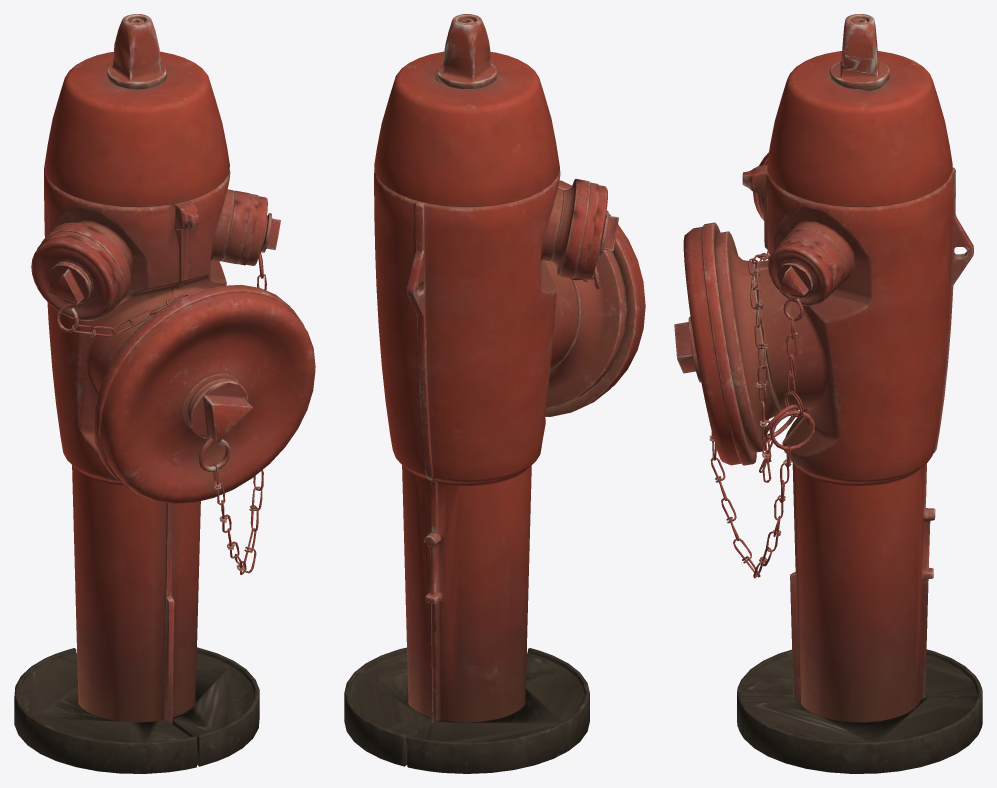
Rendered from fire-hydrant.glb.
3 renders of one model, left to right at view 1: azimuth 30°, elevation 25°; view 2: azimuth 150°, elevation 25°; view 3: azimuth 270°, elevation 25°, orthographic.
Parts seen in each view (by area): view 1: fire_hydrant; view 2: fire_hydrant; view 3: fire_hydrant.
Boxes of the visible parts, left/top/right/bottom form: fire_hydrant: left=14, top=14, right=315, bottom=773; fire_hydrant: left=344, top=14, right=645, bottom=773; fire_hydrant: left=674, top=14, right=982, bottom=773.
Size of the model in its own units: 0.2746 by 0.7994 by 0.3178.
Materials: 1 (1 with a texture image).
